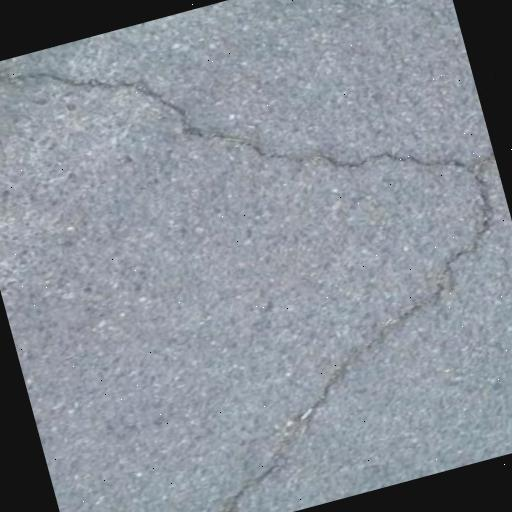spalling: (0, 54, 509, 512)
